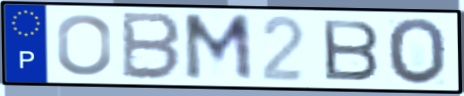2: (259, 14, 310, 83)
B: (119, 9, 184, 83), (319, 17, 382, 83)
M: (181, 12, 257, 84)
O: (384, 16, 450, 87), (54, 13, 114, 78)
